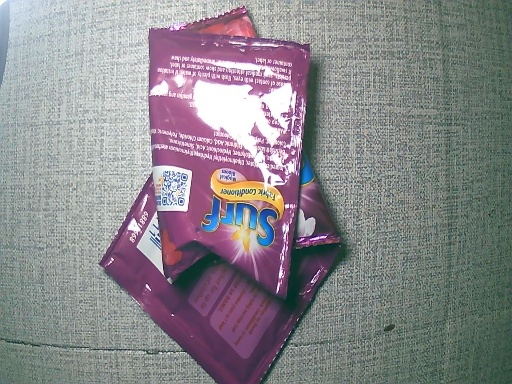plastic: (99, 7, 337, 384)
